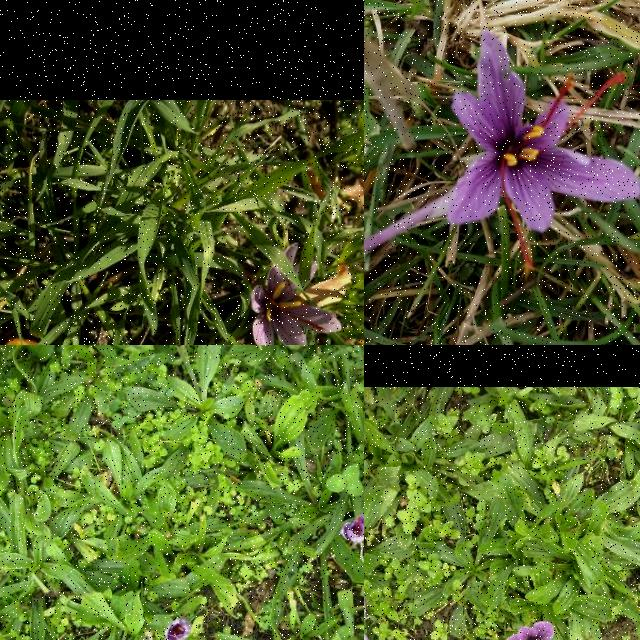flower: (444, 25, 640, 272), (250, 243, 341, 345), (502, 622, 555, 640), (340, 515, 364, 545), (163, 618, 190, 640)
